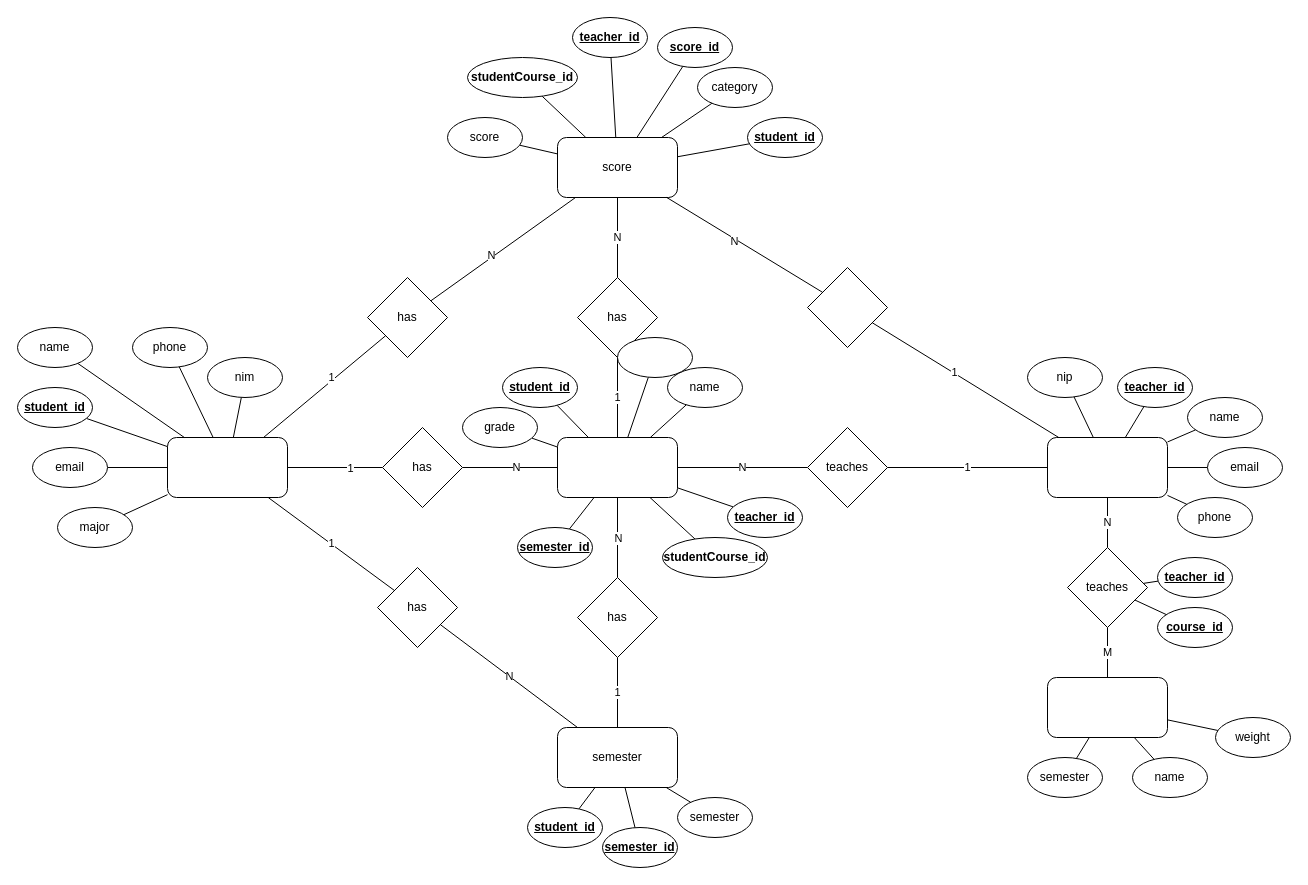
Image size: 1308x885. Some labels were removed from this diagram. Here are the shapes that lost their labels. From the top down, the centre of each, then its label:
At pixel 847 307: "give".
At pixel 654 357: "sks".
At pixel 227 467: "students".
At pixel 617 467: "studentCourse".
At pixel 1107 467: "teacher".
At pixel 1107 707: "course".
